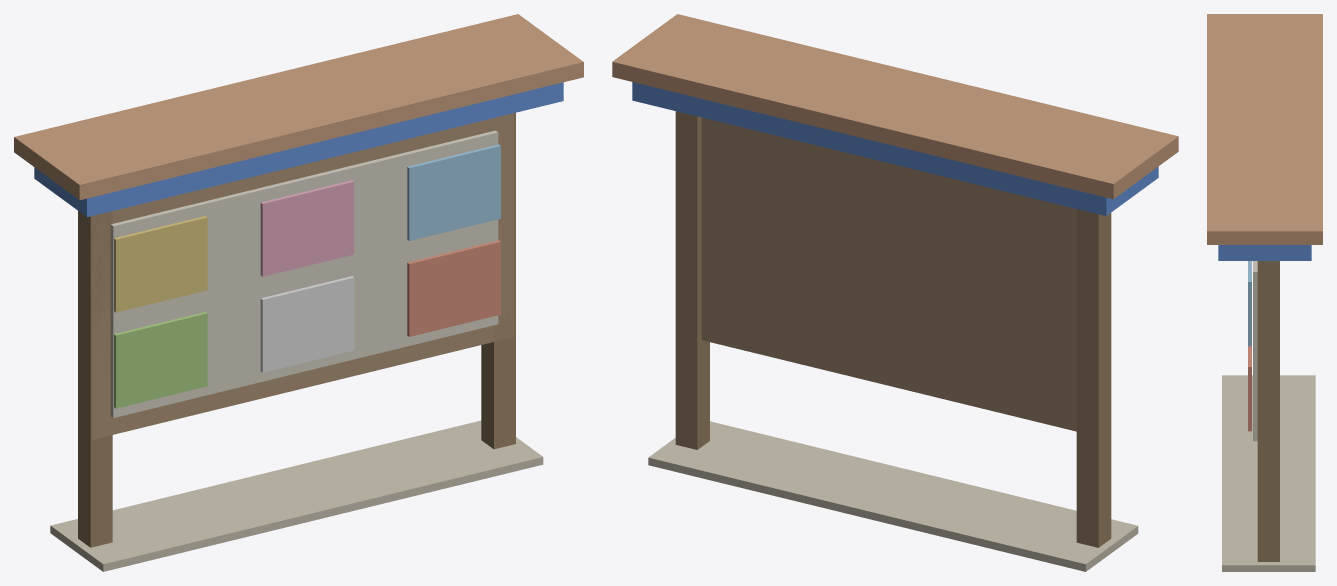
The model's file is notice_board.glb.
3 renders of one model, left to right at view 1: azimuth 30°, elevation 25°; view 2: azimuth 150°, elevation 25°; view 3: azimuth 270°, elevation 25°, orthographic. The views are drawn at different scales.
Bounding box in the file's own units: 2.75 × 2.09 × 0.62.
